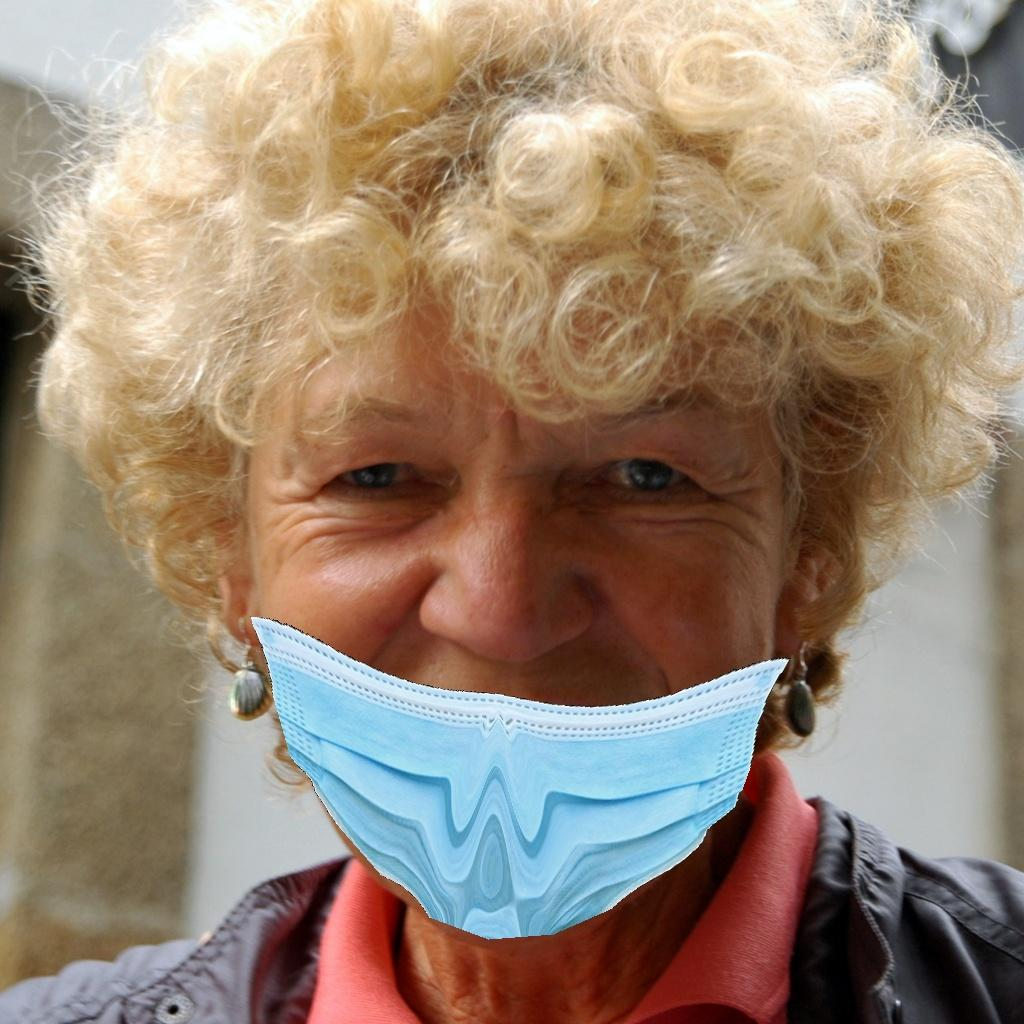Máscara Incorreta: (208, 350, 815, 923)
